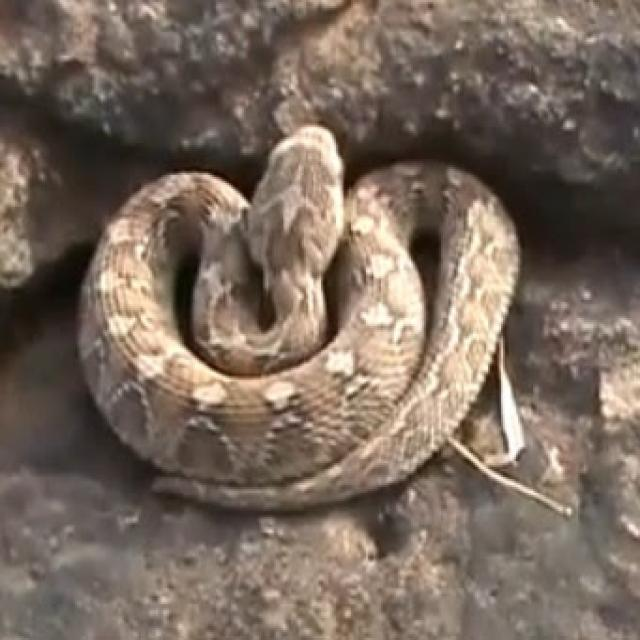Snake: (73, 121, 537, 515)
